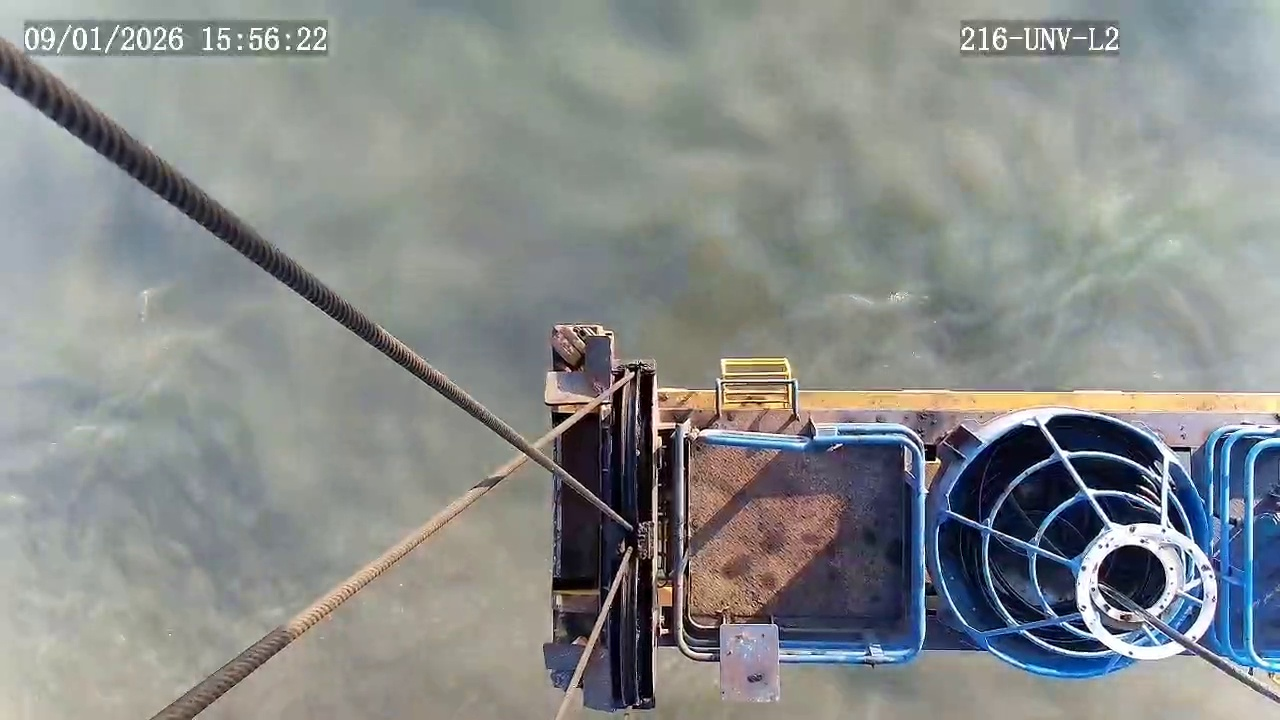left: (1075, 522, 1215, 662)
